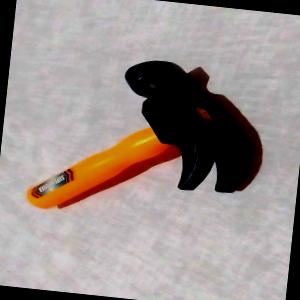martelo: (22, 48, 258, 228)
